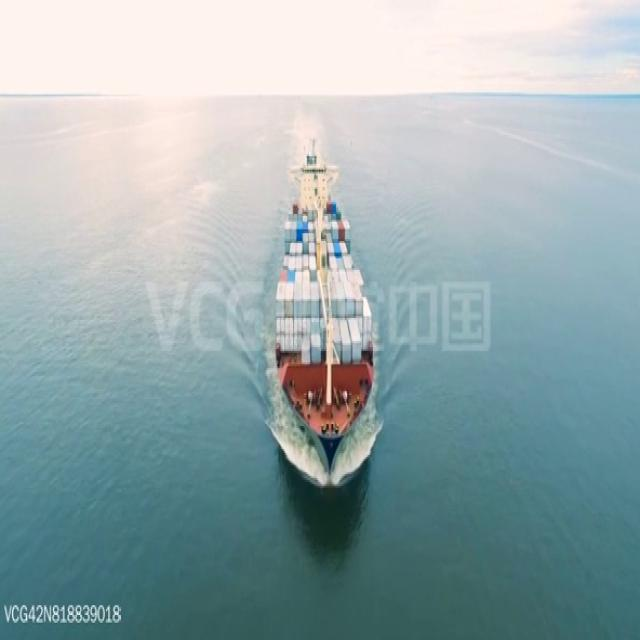cargoship: (271, 134, 379, 462)
